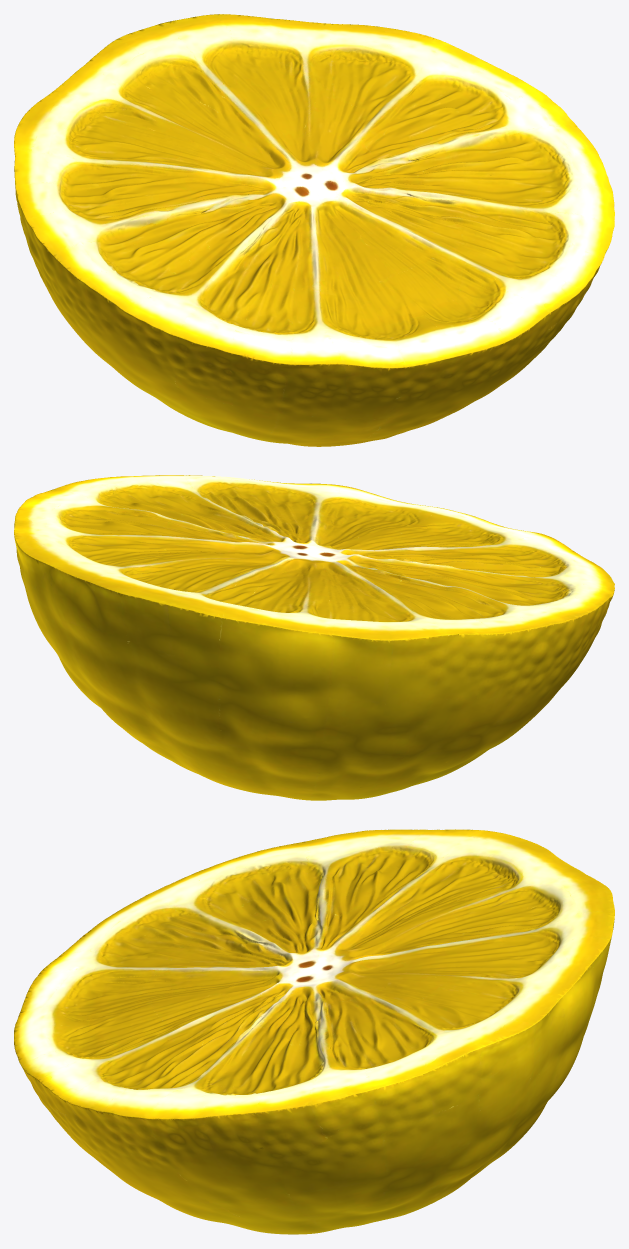
The model's file is draco-ice.glb.
3 views of the same model, one above another, from view 1: azimuth 30°, elevation 25°; view 2: azimuth 150°, elevation 25°; view 3: azimuth 270°, elevation 25° (orthographic). The views are drawn at different scales.
Size of the model in its own units: 1.9 by 0.9836 by 1.82.
1 material, 1 textured.
